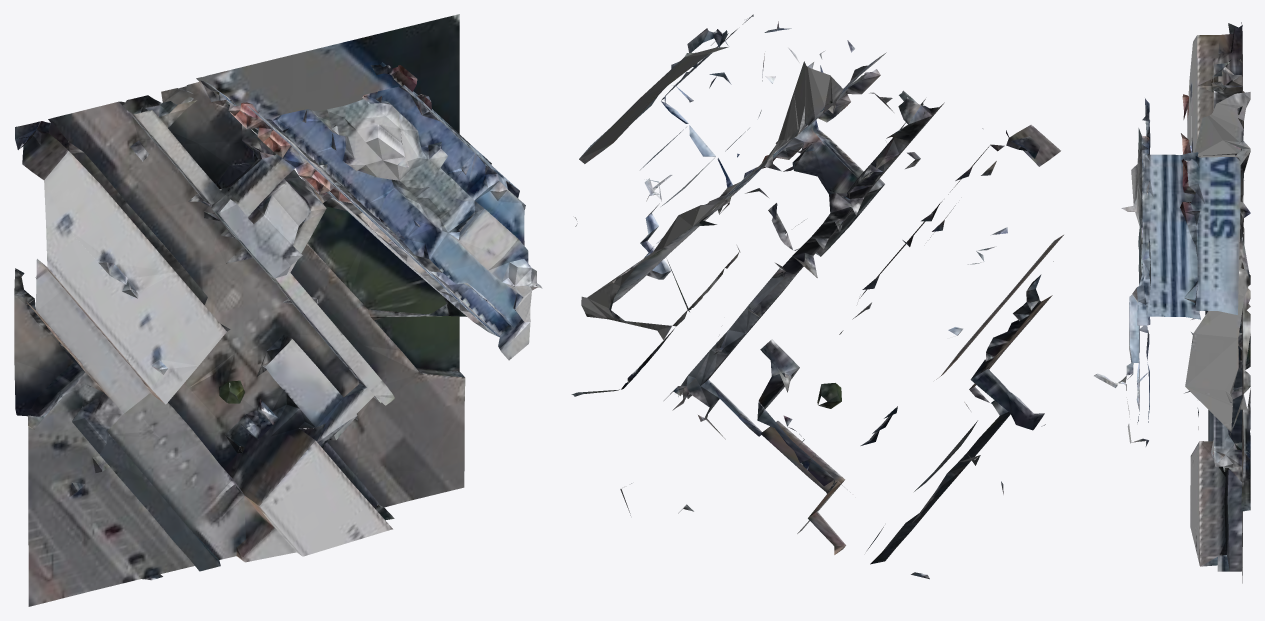
The model's file is Tile_+037_+017_L17_0001.glb.
3 views of the same model, side by side, from view 1: azimuth 30°, elevation 25°; view 2: azimuth 150°, elevation 25°; view 3: azimuth 270°, elevation 25° (orthographic). The views are drawn at different scales.
Bounding box in the file's own units: 126 × 126 × 44.43.
Materials: 1 (1 with a texture image).
